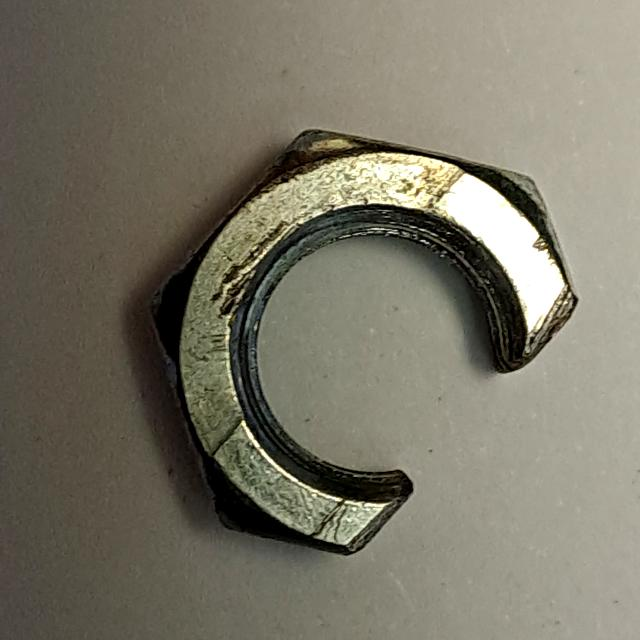Fracture: (134, 117, 589, 573)
